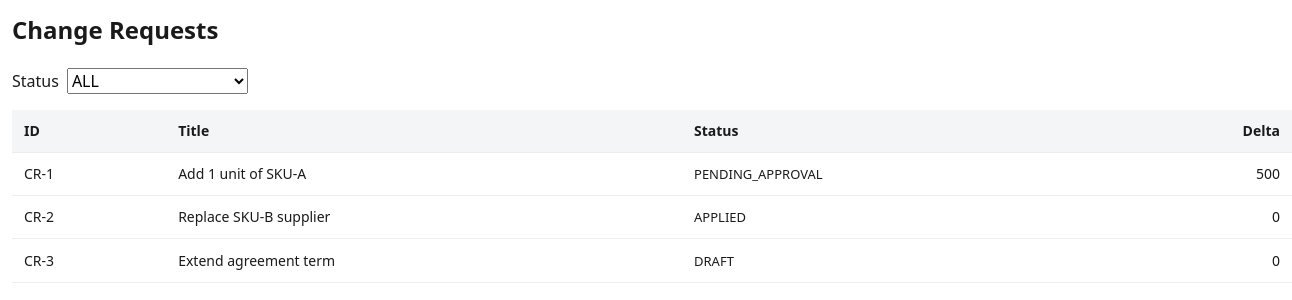
Test: CrListComponent › shows an empty message when no statuses match
Step 1. Select "REJECTED" in the dropdown with class "cr-list__filter" → (157, 81), box left=67, top=68, right=248, bottom=94
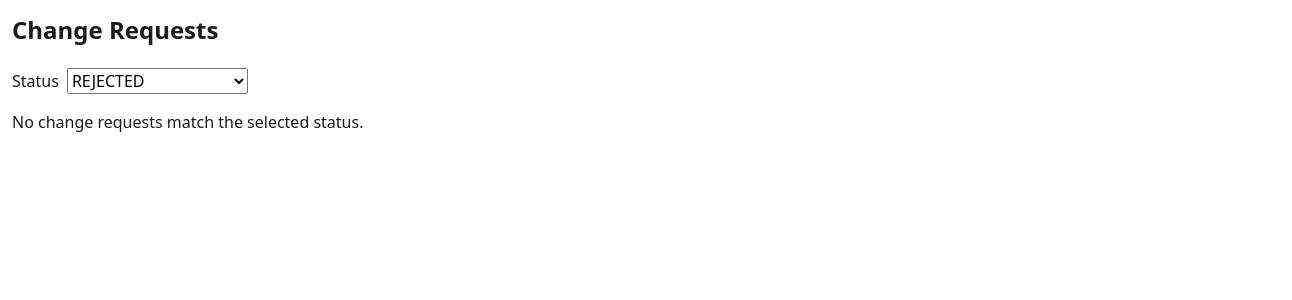
Expected: the text "No change requests match the selected status." is shown, left=12, top=111, right=363, bottom=133
Expected: the table with class "cr-list__table" is gone
